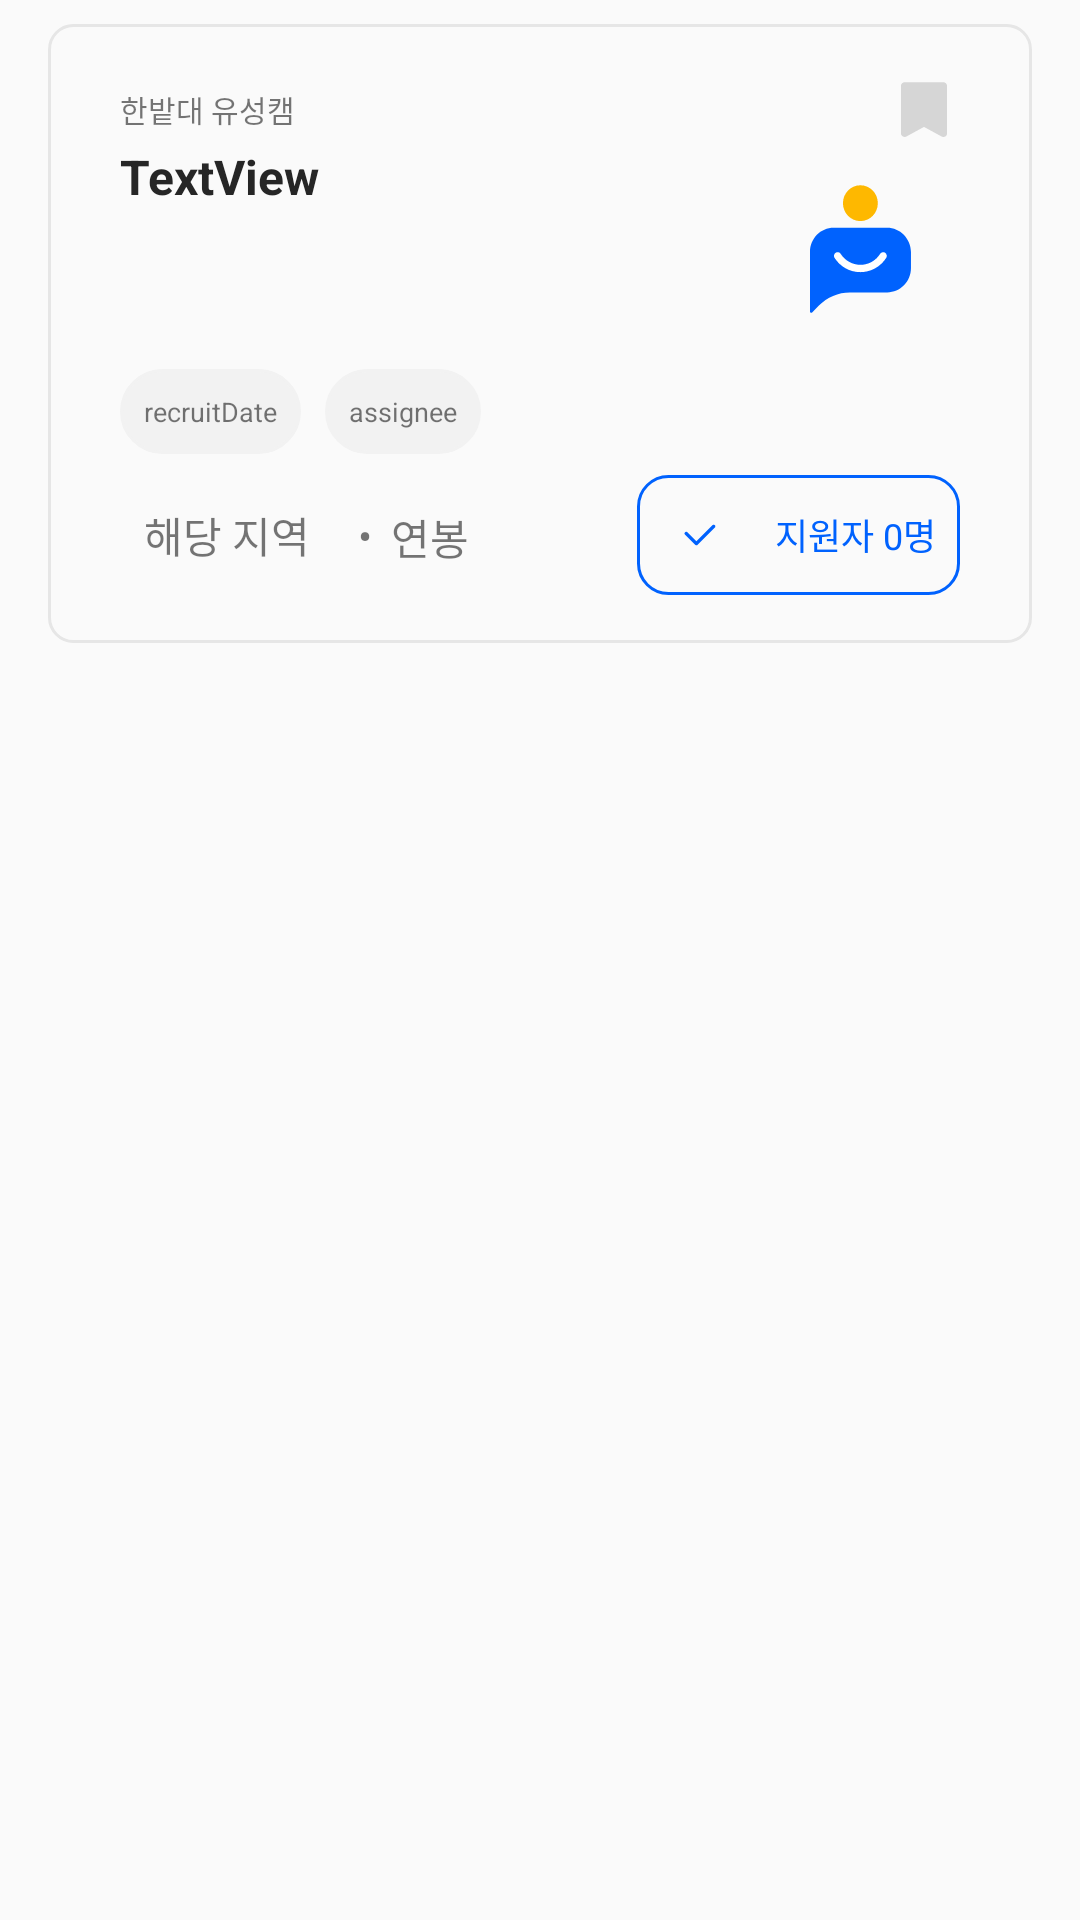

Icons on this 1080 x 1920 Android screen, each with the point to tap as [x,y]:
bookmark: [924,109]
check: [700,535]
